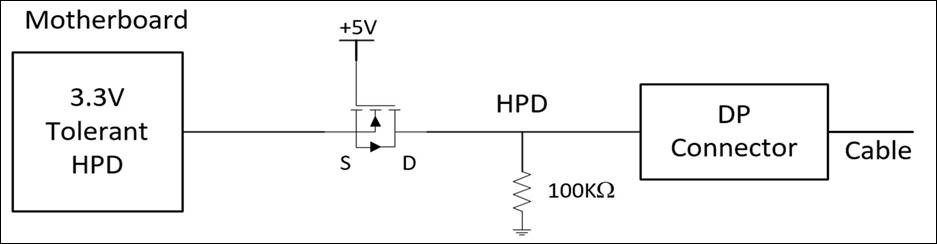ground: (505, 224, 544, 238)
mosfet: (341, 102, 408, 154)
power: (326, 11, 390, 62)
rectangle: (7, 45, 189, 220), (630, 77, 836, 188)
resistor: (508, 169, 540, 215)
